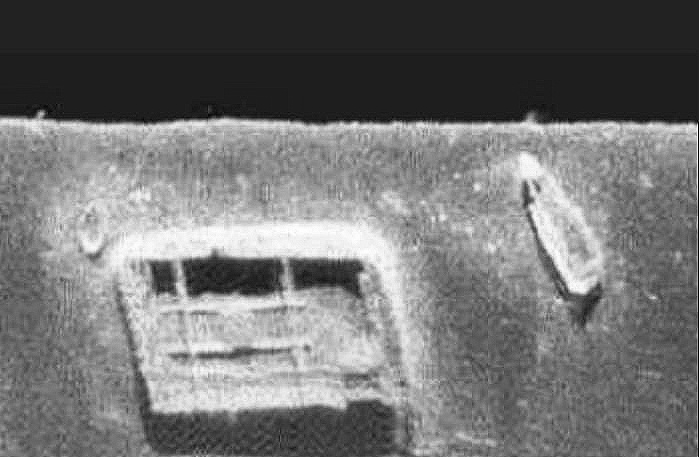ship: (115, 234, 415, 422), (521, 154, 612, 298), (72, 200, 106, 258)
